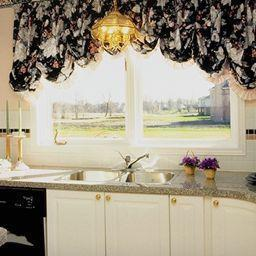Lavaplatos: (56, 145, 184, 193)
Ventana: (35, 38, 237, 152)
